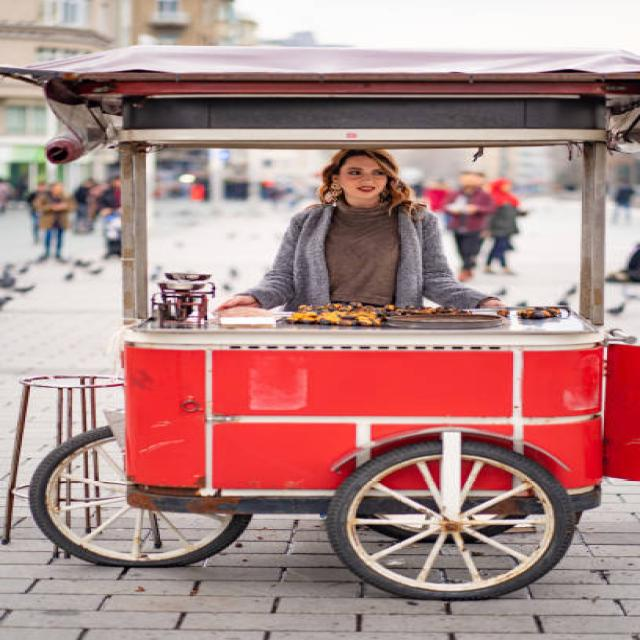Emperan: (0, 20, 640, 613)
